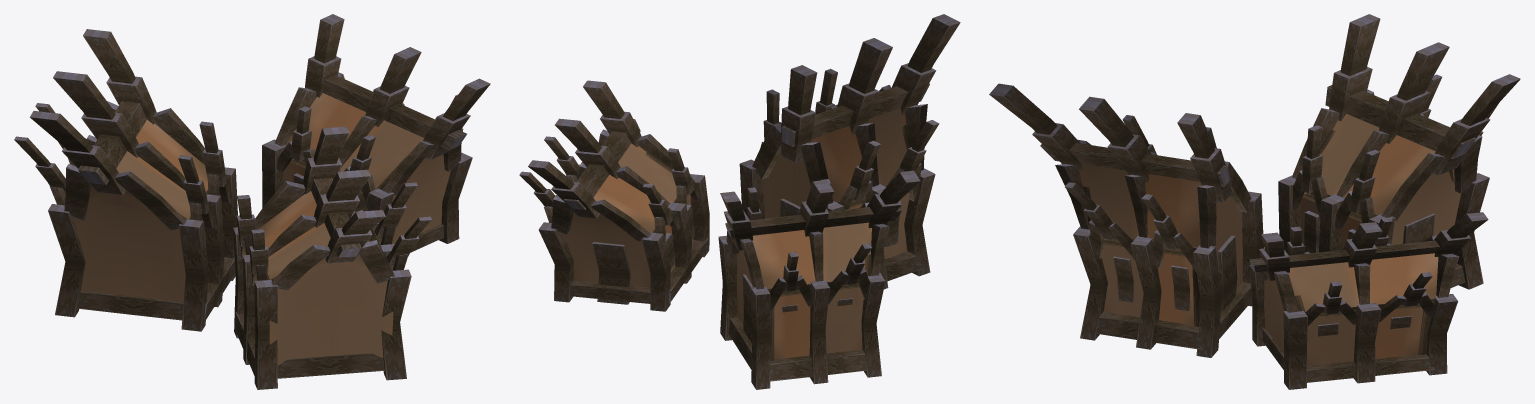
The model's file is tile_town.fbx.
The picture shows the model from 3 angles, left to right: view 1: azimuth 30°, elevation 25°; view 2: azimuth 150°, elevation 25°; view 3: azimuth 270°, elevation 25°; orthographic projection. The views are drawn at different scales.
Parts seen in each view (by area): view 1: Cylinder002544; view 2: Cylinder002544; view 3: Cylinder002544.
Boxes of the visible parts, <box> form: Cylinder002544: <box>14,14,490,389</box>; Cylinder002544: <box>519,14,960,389</box>; Cylinder002544: <box>989,14,1520,389</box>.
Bounding box in the file's own units: 3.86 × 4.23 × 1.87.
2 materials, 2 textured.
